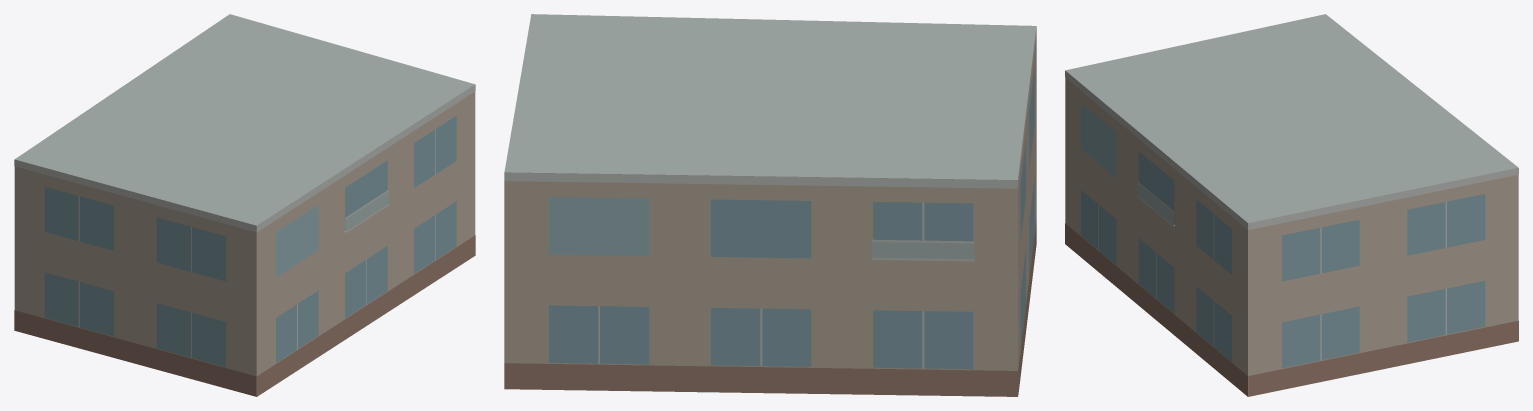
File: survey-upis-32927166.glb
3 renders of one model, left to right at view 1: azimuth 30°, elevation 25°; view 2: azimuth 150°, elevation 25°; view 3: azimuth 270°, elevation 25°, orthographic. The views are drawn at different scales.
Parts seen in each view (by area): view 1: survey-upis-32927166.tmp; view 2: survey-upis-32927166.tmp; view 3: survey-upis-32927166.tmp.
Part boxes in pixels (bbox=[...]): survey-upis-32927166.tmp: bbox=[14, 14, 475, 396]; survey-upis-32927166.tmp: bbox=[504, 14, 1036, 396]; survey-upis-32927166.tmp: bbox=[1065, 14, 1518, 396].
Bounding box in the file's own units: 15.77 × 6.1 × 14.45.
